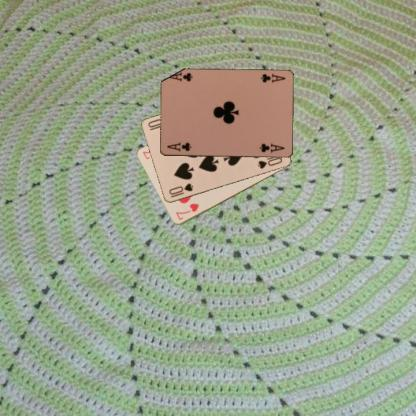10s: (166, 181, 195, 199)
7h: (173, 201, 200, 221)
Ac: (258, 72, 287, 84), (165, 140, 192, 152)
